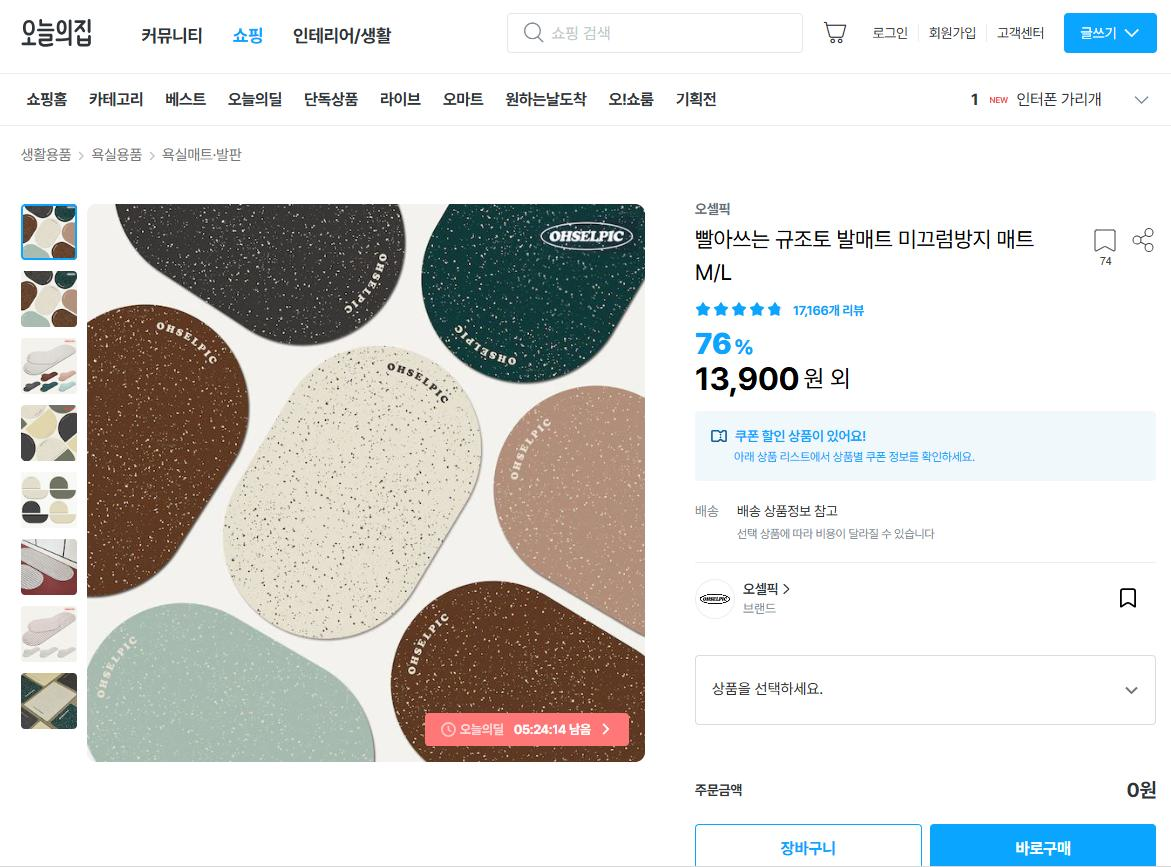button: (937, 820, 1170, 867), (697, 821, 913, 867), (4, 476, 89, 530), (16, 274, 88, 336), (10, 403, 79, 464), (19, 201, 79, 259), (20, 338, 80, 396), (21, 542, 78, 600), (15, 675, 80, 725), (280, 15, 375, 49), (20, 614, 75, 663), (131, 20, 211, 49), (1096, 576, 1144, 615), (18, 84, 88, 109), (1126, 222, 1171, 258), (516, 90, 595, 110), (990, 21, 1054, 45), (163, 90, 219, 117), (731, 573, 794, 596), (386, 91, 448, 114), (1084, 224, 1118, 263), (809, 18, 853, 48), (300, 88, 361, 108), (920, 24, 988, 41), (450, 94, 505, 114), (866, 21, 909, 46), (236, 23, 279, 46), (228, 92, 280, 110), (94, 89, 141, 108), (668, 89, 722, 104), (605, 91, 656, 106)
checkbox: (692, 659, 1152, 718), (1068, 16, 1151, 51)
input_field: (511, 13, 799, 49)
